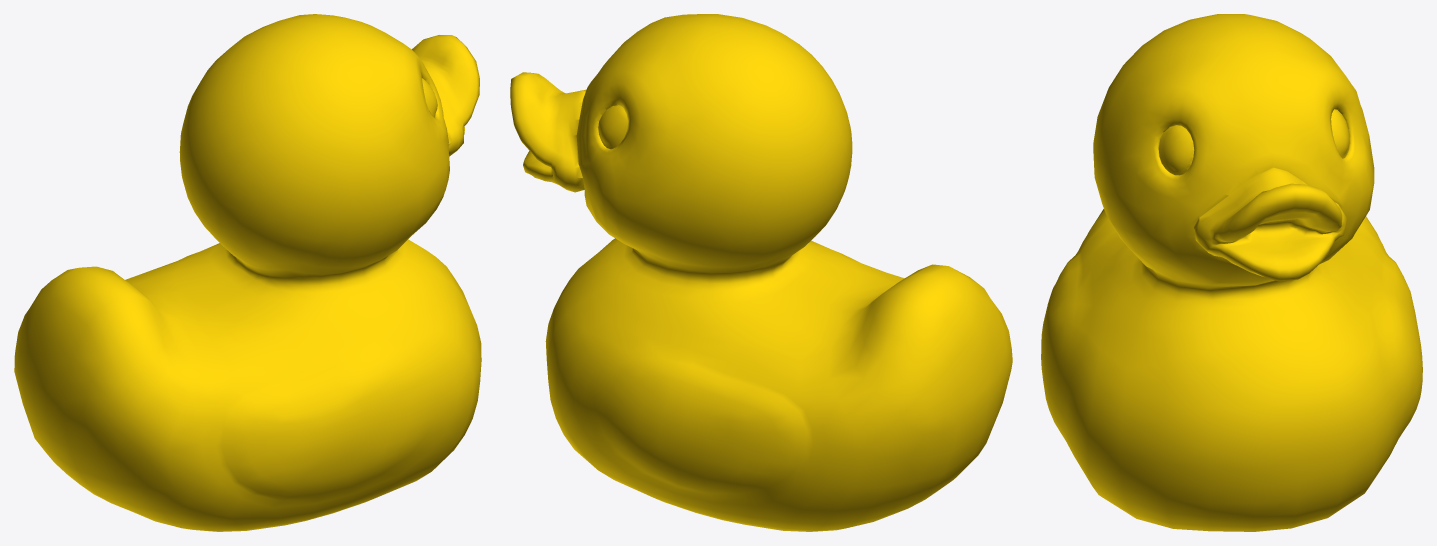
File: Duck.glb
3 renders of one model, left to right at view 1: azimuth 30°, elevation 25°; view 2: azimuth 150°, elevation 25°; view 3: azimuth 270°, elevation 25°, orthographic. The views are drawn at different scales.
Visible parts, largest first — view 1: Duck; view 2: Duck; view 3: Duck.
Boxes of the visible parts, left/top/right/bottom form: Duck: left=14, top=14, right=481, bottom=531; Duck: left=510, top=14, right=1012, bottom=531; Duck: left=1041, top=14, right=1422, bottom=531.
Bounding box in the file's own units: 1.65 × 1.54 × 1.15.
